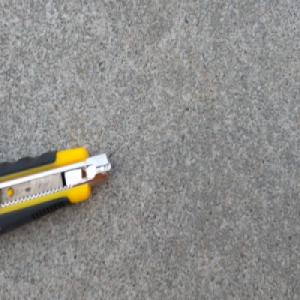Cutter: (0, 146, 112, 242)
